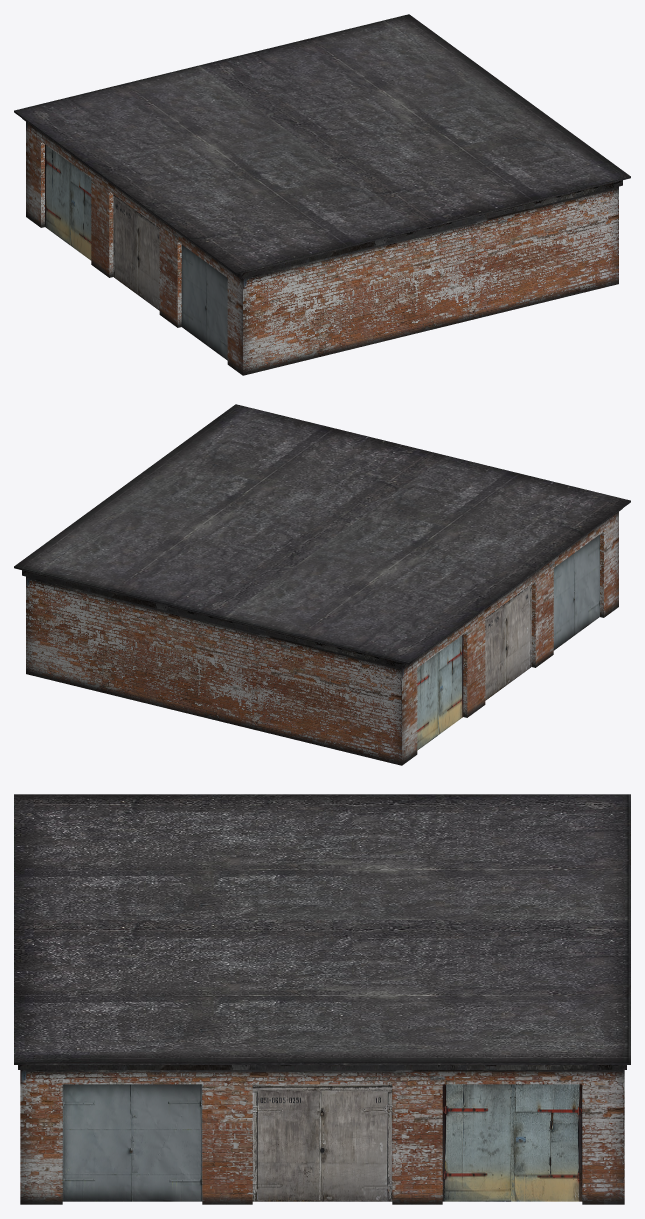
File: d_garage_7.FBX
3 renders of one model, top to bottom at view 1: azimuth 30°, elevation 25°; view 2: azimuth 150°, elevation 25°; view 3: azimuth 270°, elevation 25°, orthographic. The views are drawn at different scales.
Parts seen in each view (by area): view 1: d_garage_7; view 2: d_garage_7; view 3: d_garage_7.
Boxes of the visible parts, x1=… form: d_garage_7: x1=14, y1=14, x2=630, y2=375; d_garage_7: x1=14, y1=404, x2=630, y2=765; d_garage_7: x1=14, y1=794, x2=630, y2=1204.
Size of the model in its own units: 10.02 by 9.74 by 2.59.
